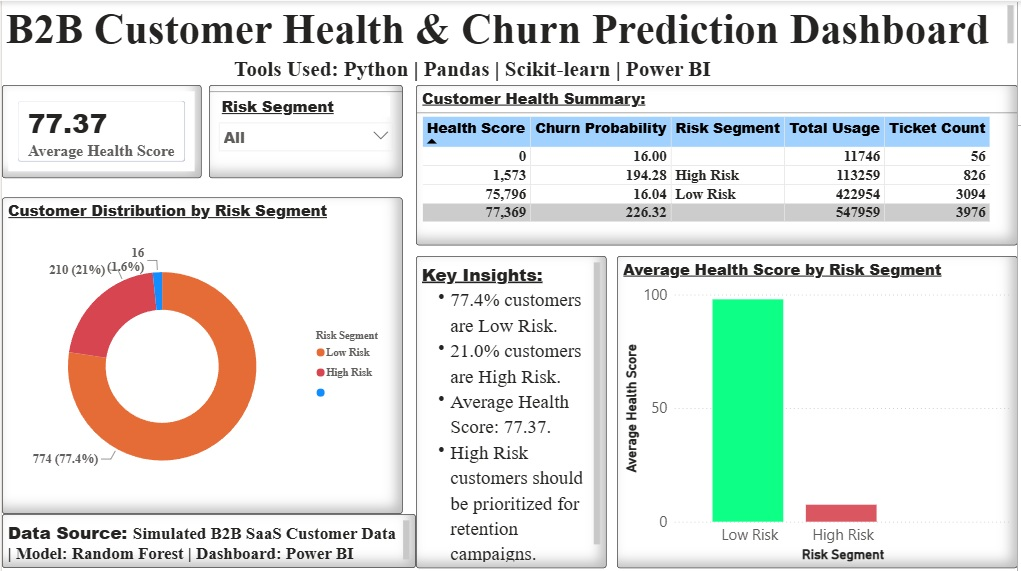

What the dashboard file says about the page in this screenshot:
{"tool":"powerbi","page":{"name":"Page 1","canvas":[1280,720],"ordinal":0},"visuals":[{"type":"columnChart","title":"Average Health Score by Risk Segment","fields":{"Category":["customer_health_scores.risk_segment"],"Y":["Avg(customer_health_scores.health_score)"]},"box":[774.8,321.3,504.6,393.1],"z":0},{"type":"cardVisual","fields":{"Data":["Avg(customer_health_scores.health_score)"]},"box":[0,105.8,251.3,117.2],"z":1000},{"type":"donutChart","title":"Customer Distribution by Risk Segment","fields":{"Category":["customer_health_scores.risk_segment"],"Y":["CountNonNull(customer_health_scores.health_score)"]},"box":[0,247.6,504.6,398.7],"z":2000},{"type":"tableEx","title":"Customer Health Summary:","fields":{"Values":["Sum(customer_health_scores.health_score)","Sum(customer_health_scores.churn_probability)","customer_health_scores.risk_segment","Sum(customer_health_scores.total_usage)","Sum(customer_health_scores.ticket_count)"]},"box":[521.6,105.8,757.8,202.2],"z":3000},{"type":"slicer","fields":{"Values":["customer_health_scores.risk_segment"]},"box":[260.8,105.8,243.8,117.2],"z":4000},{"type":"textbox","box":[0,0,1279.4,64.3],"z":5000},{"type":"textbox","box":[287.2,64.3,619.8,41.6],"z":6000},{"type":"textbox","box":[521.6,321.3,240,393.1],"z":7000},{"type":"textbox","box":[0,646.3,521.6,68],"z":8000}]}

Visuals, with their boxes in screenshot pixels (x1, y1, x2, y2), scaled from the page's 1280x720 canvas onto the 1021x571 screenshot:
"Average Health Score by Risk Segment" columnChart: bbox=[618, 255, 1020, 567]
cardVisual - Avg(customer_health_scores.health_score): bbox=[0, 84, 200, 177]
"Customer Distribution by Risk Segment" donutChart: bbox=[0, 196, 402, 513]
"Customer Health Summary:" tableEx: bbox=[416, 84, 1020, 244]
slicer - customer_health_scores.risk_segment: bbox=[208, 84, 402, 177]
textbox: bbox=[0, 0, 1020, 51]
textbox: bbox=[229, 51, 723, 84]
textbox: bbox=[416, 255, 607, 567]
textbox: bbox=[0, 513, 416, 566]
